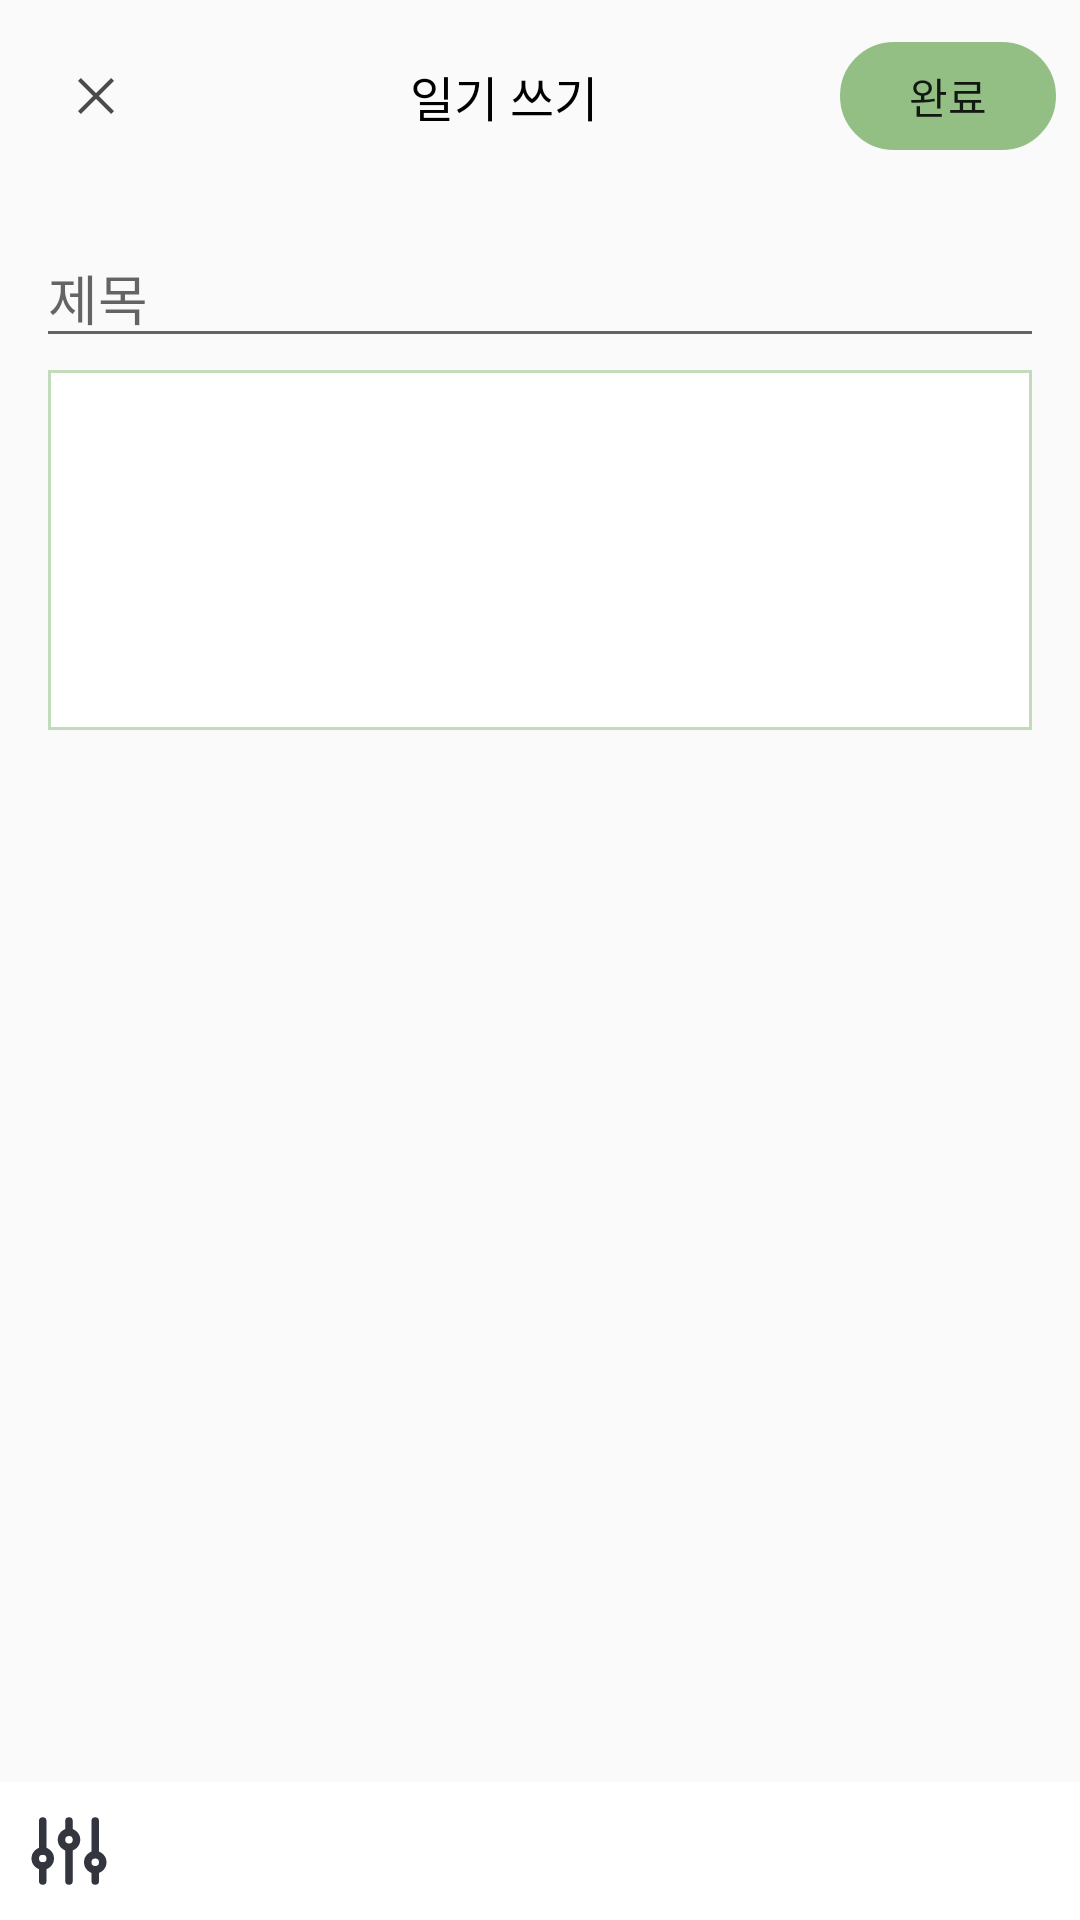

Screen size 1080px x 1920px. Icon name, then its box in pixels as (x1, y1, x2, y2):
filter: (31, 1817, 107, 1885)
